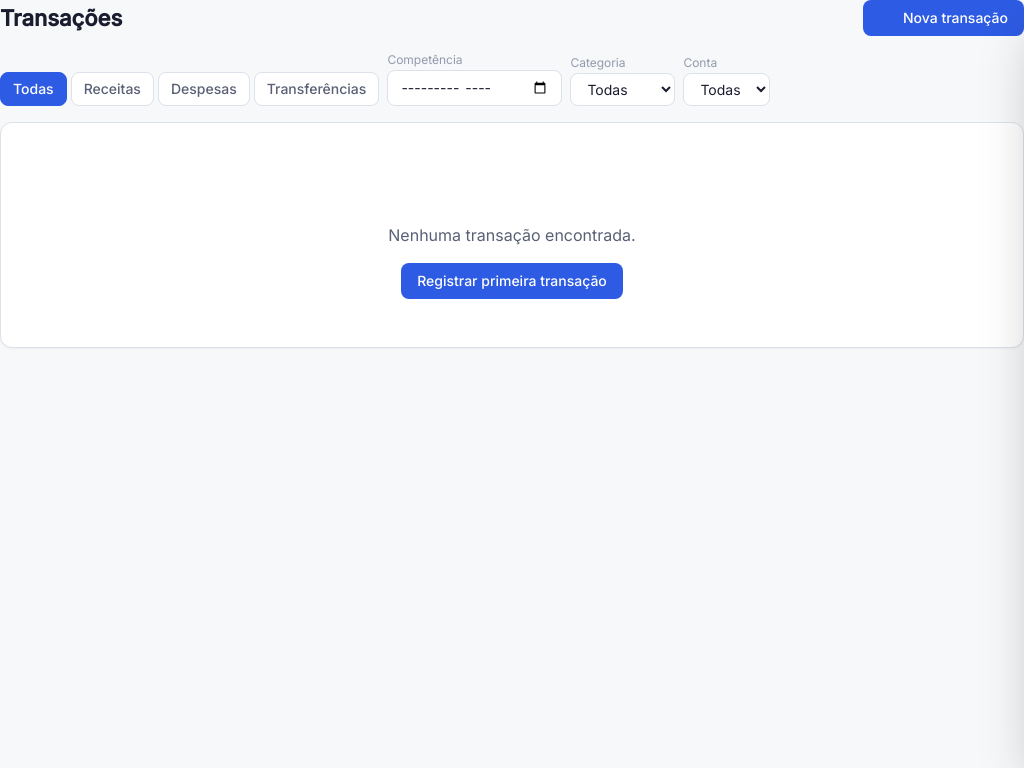
it: Transacoes › nova transação › sem contas cadastradas, pede uma conta
Click the button "Nova transação" at (944, 18), box [863,0,1023,36]
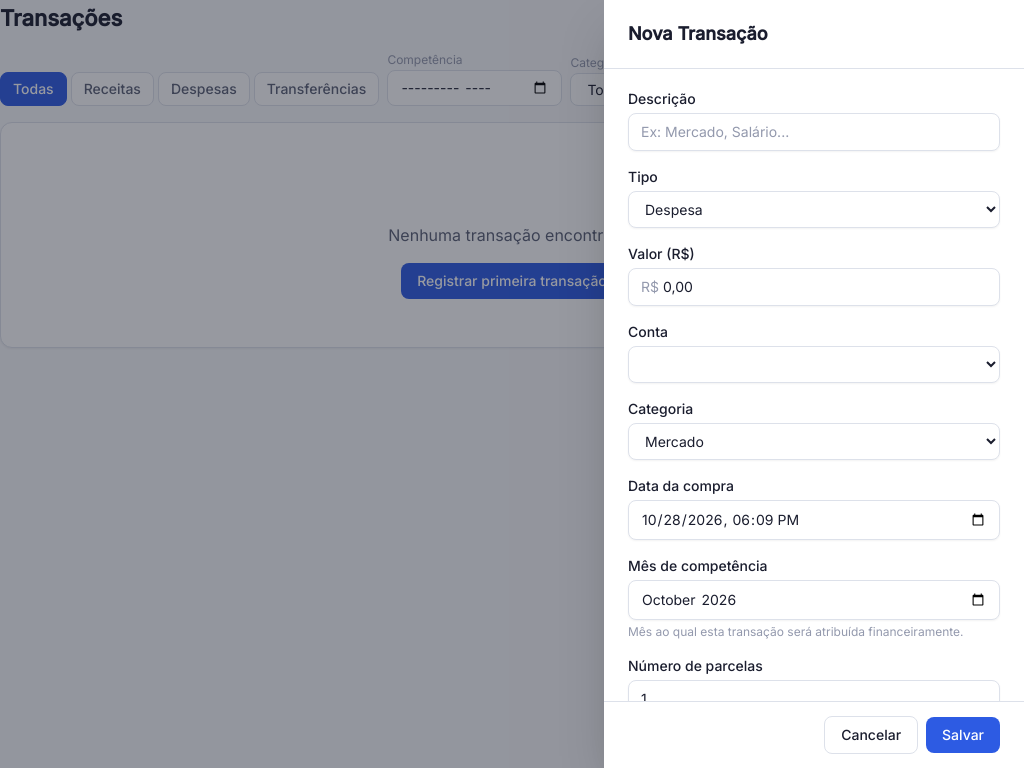
Type "Padaria" into the field labelled "Descrição" at (814, 132), box [628,113,1000,151]
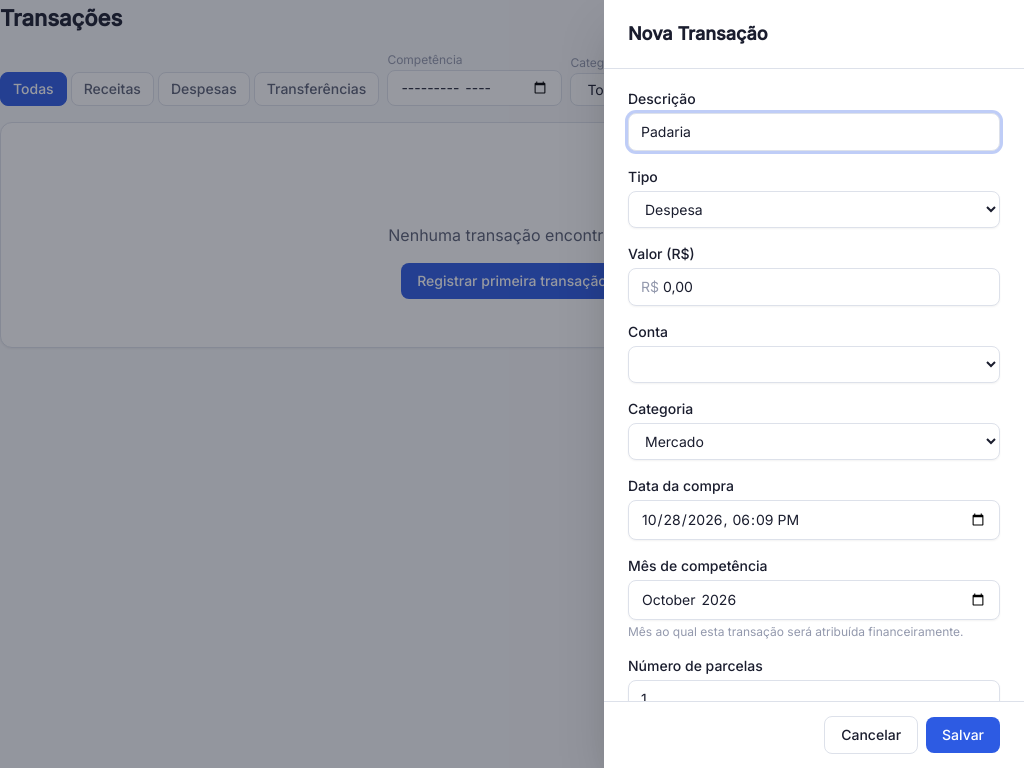
Click the button "Salvar" at (963, 735), box [926,717,1000,753]
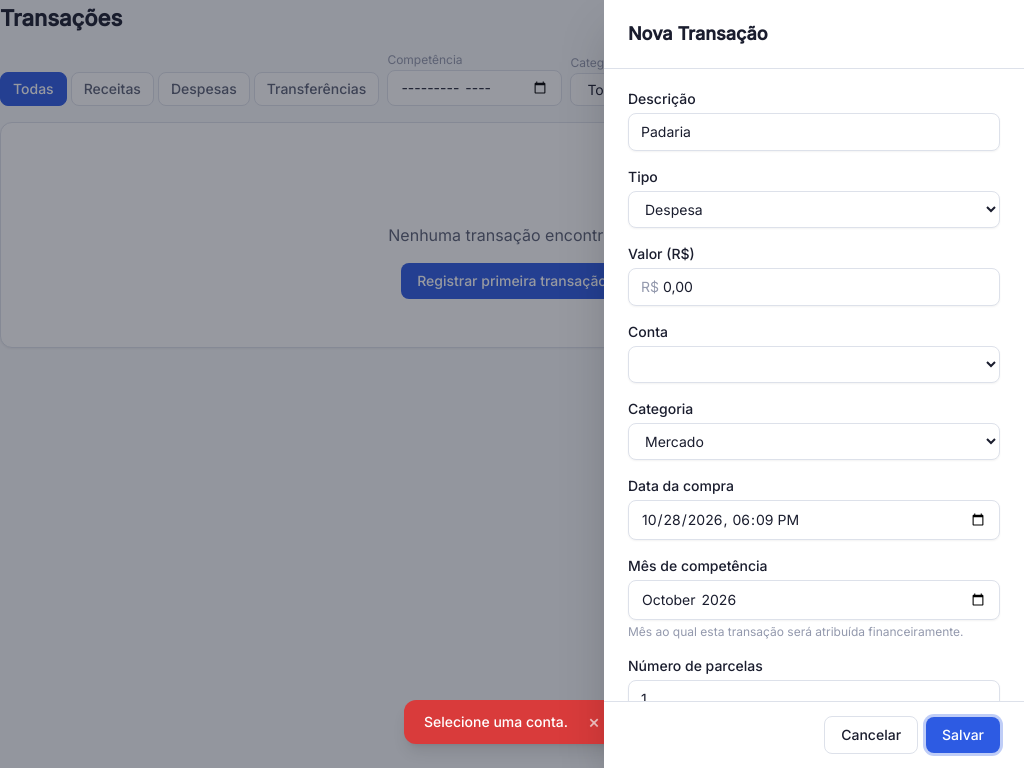
Result: the text "Selecione uma conta." is shown at [424,712,568,732]
